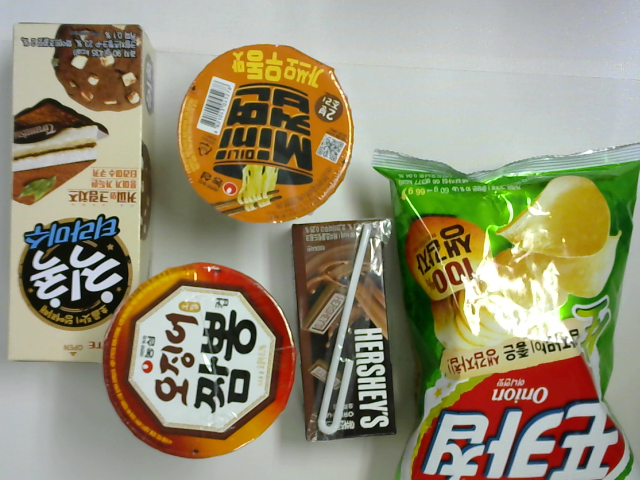Chicchok_Tiramisu: (1, 17, 156, 369)
Hush_Choco_Drink: (293, 205, 397, 457)
Ojjam: (90, 266, 288, 460)
Pocachip_Onion: (377, 148, 622, 480)
Udongmini: (175, 48, 359, 222)
